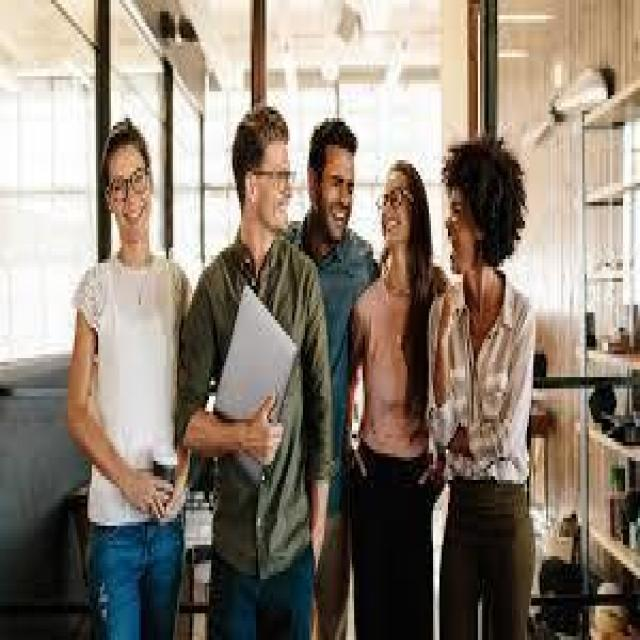person: (181, 95, 337, 632), (54, 84, 200, 632), (418, 99, 548, 621), (339, 152, 452, 610), (284, 103, 369, 587)
